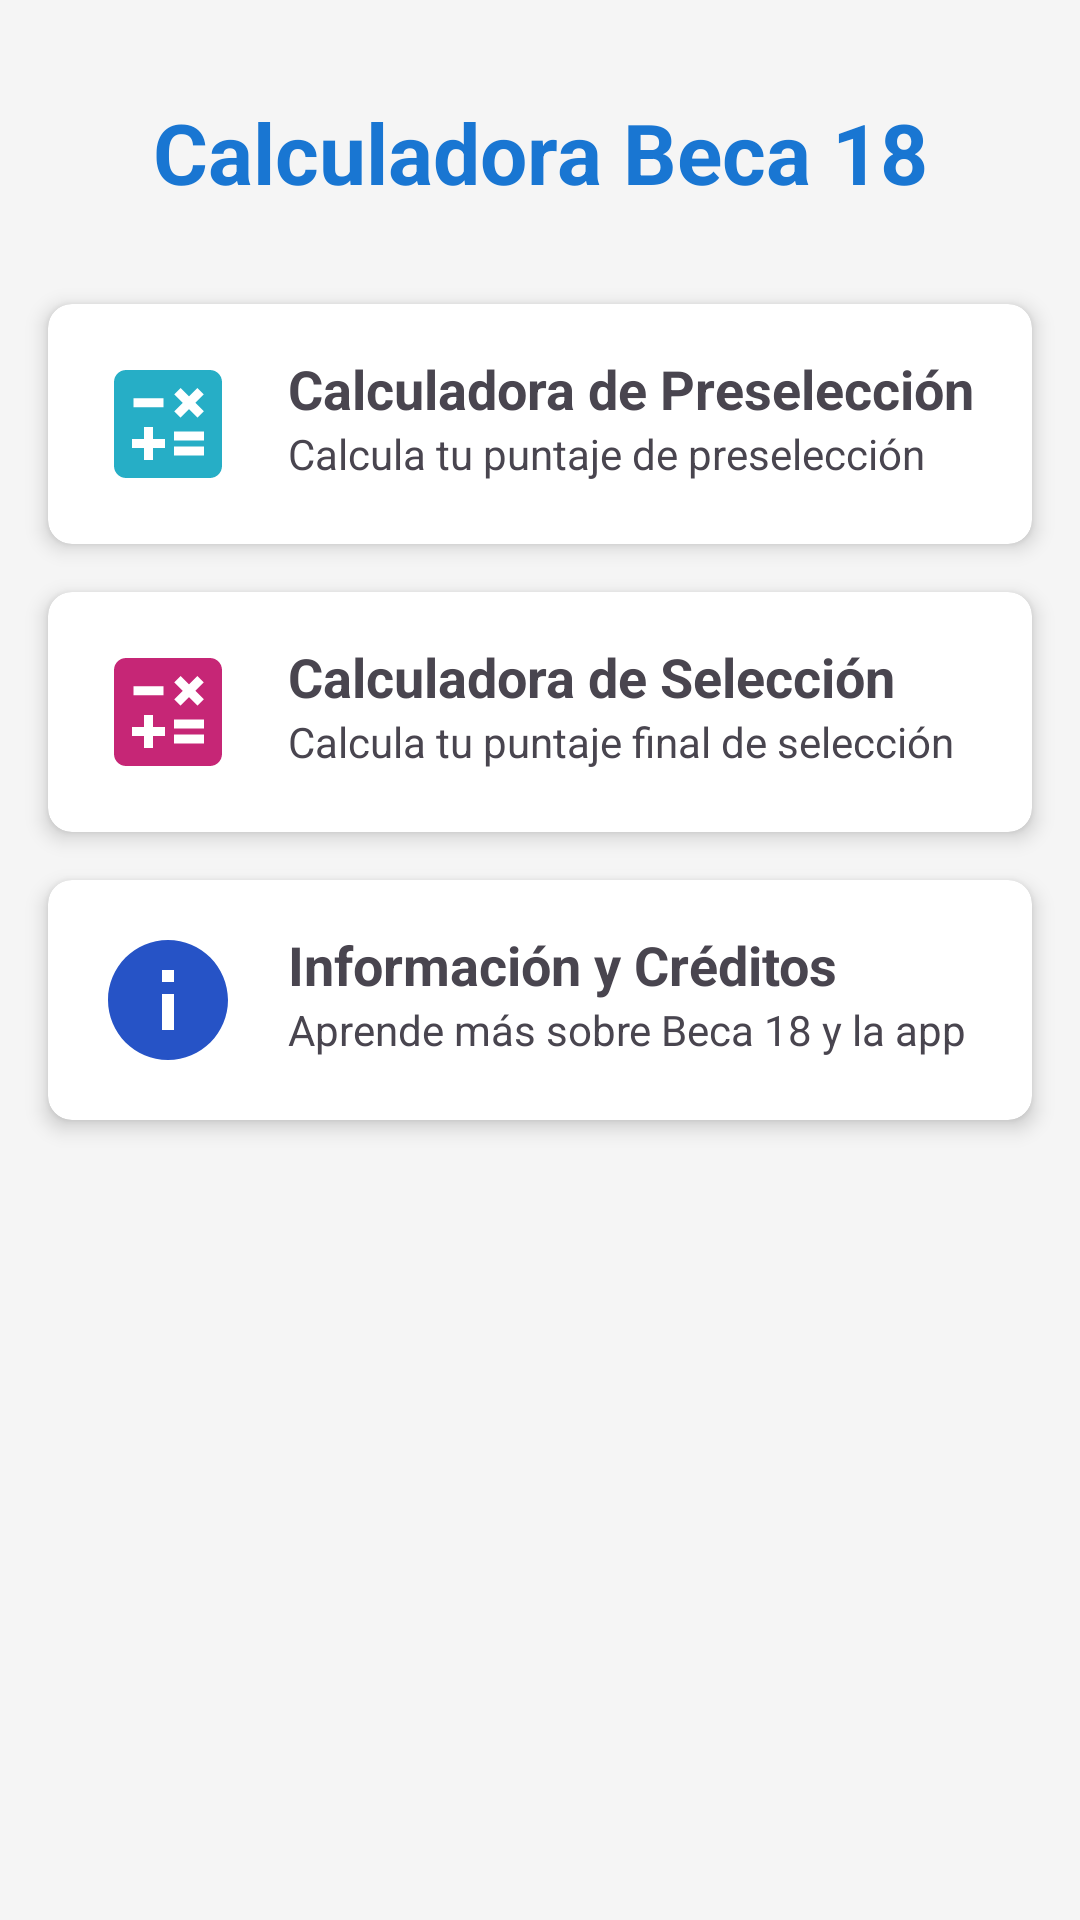

Icons on this 1080×1920 Android screen, each with the point to tap as [x,y]:
Icono de información: [168,1000]
